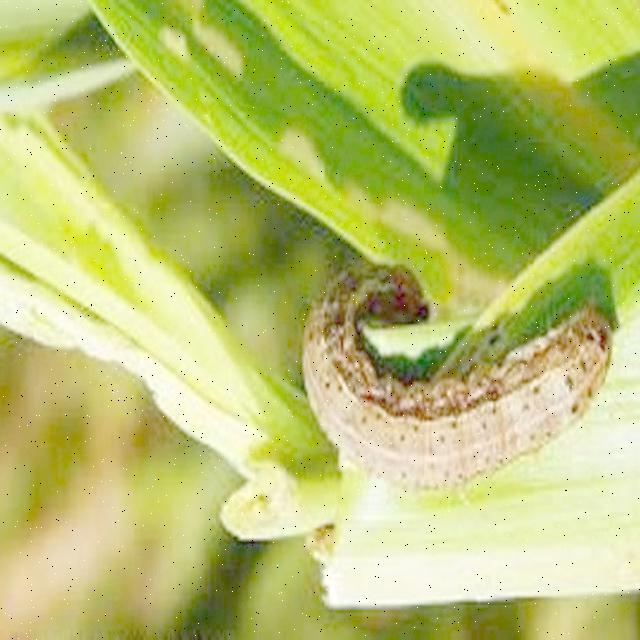worm: (301, 258, 619, 497)
